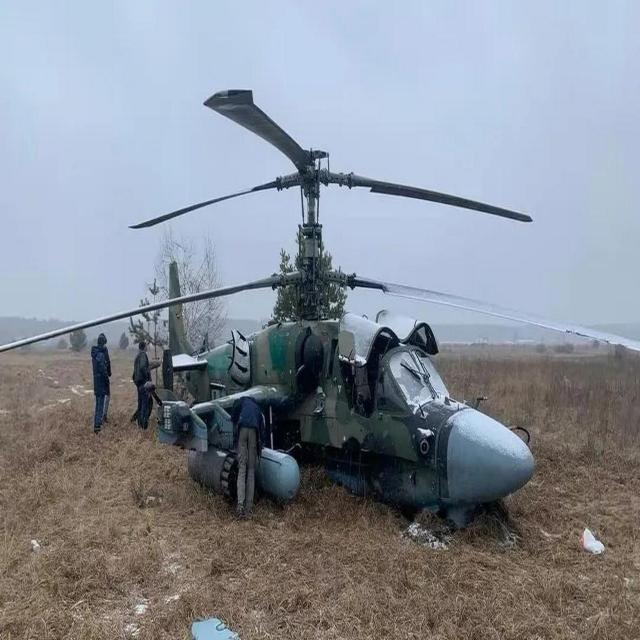MIL_HELO: (6, 97, 640, 527)
